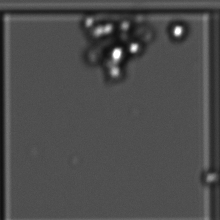Living Cell: (166, 19, 191, 46), (104, 61, 125, 83), (106, 43, 126, 63), (127, 37, 145, 58)
